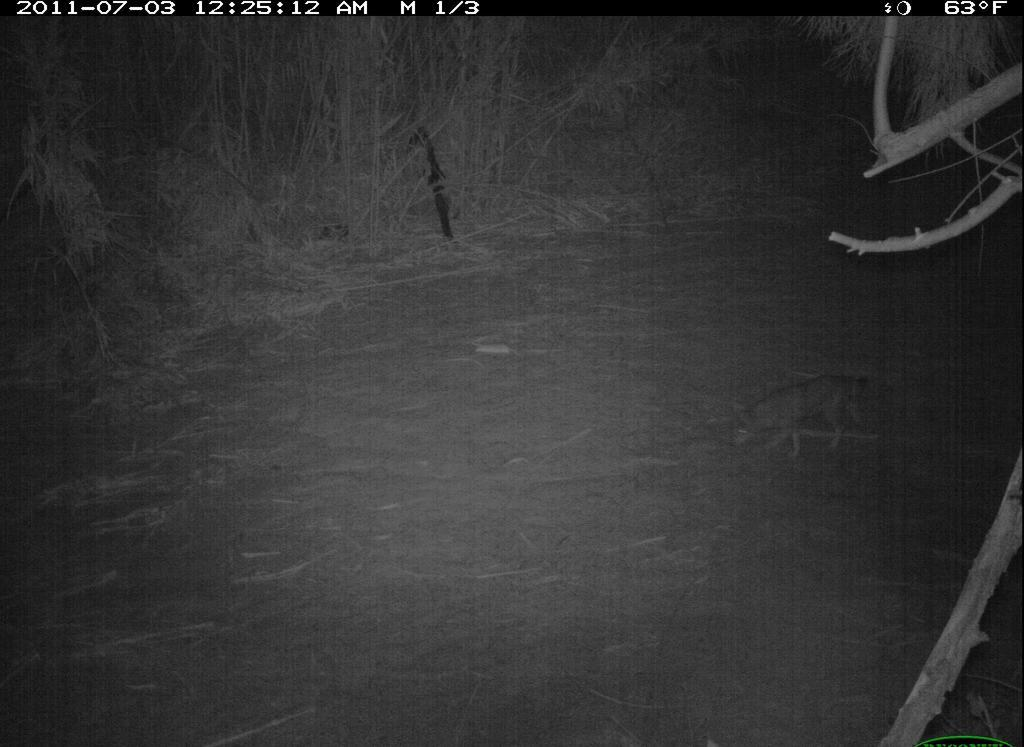coyote: (719, 361, 886, 471)
